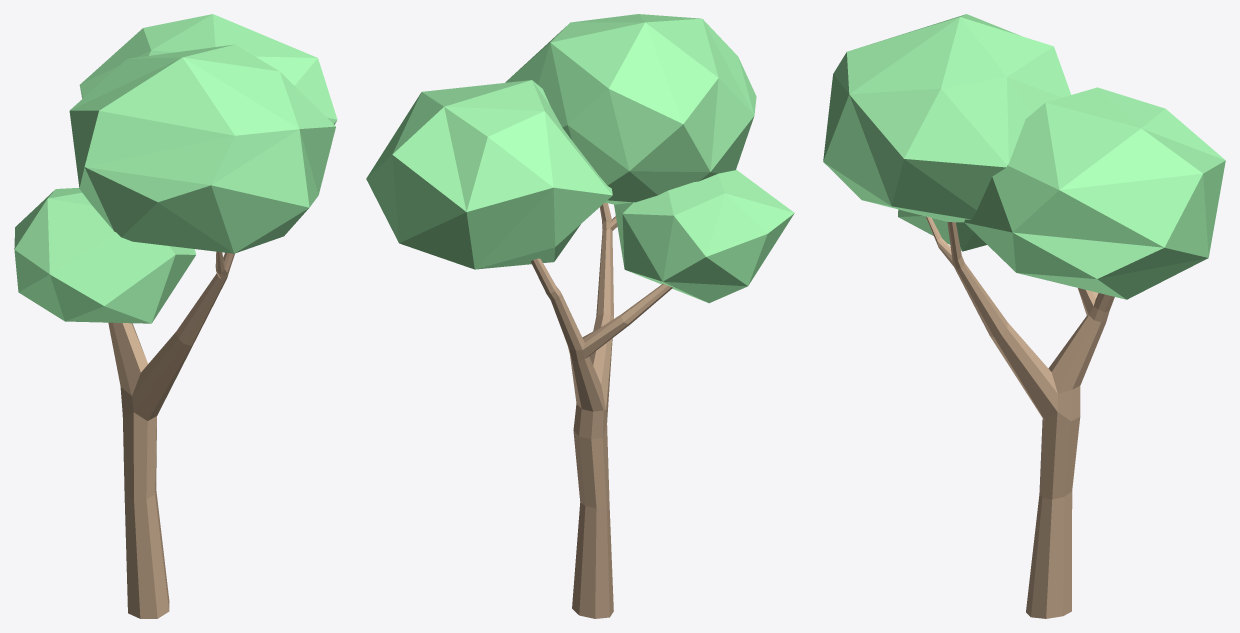
File: arbre2.glb
The picture shows the model from 3 angles, left to right: view 1: azimuth 30°, elevation 25°; view 2: azimuth 150°, elevation 25°; view 3: azimuth 270°, elevation 25°; orthographic projection. The views are drawn at different scales.
Parts seen in each view (by area): view 1: arbre.004; view 2: arbre.004; view 3: arbre.004.
Part boxes in pixels (x1,y1,x2,y2): arbre.004: (14, 14, 337, 618); arbre.004: (366, 14, 794, 618); arbre.004: (823, 14, 1225, 618).
Size of the model in its own units: 11.77 by 18.85 by 11.61.
